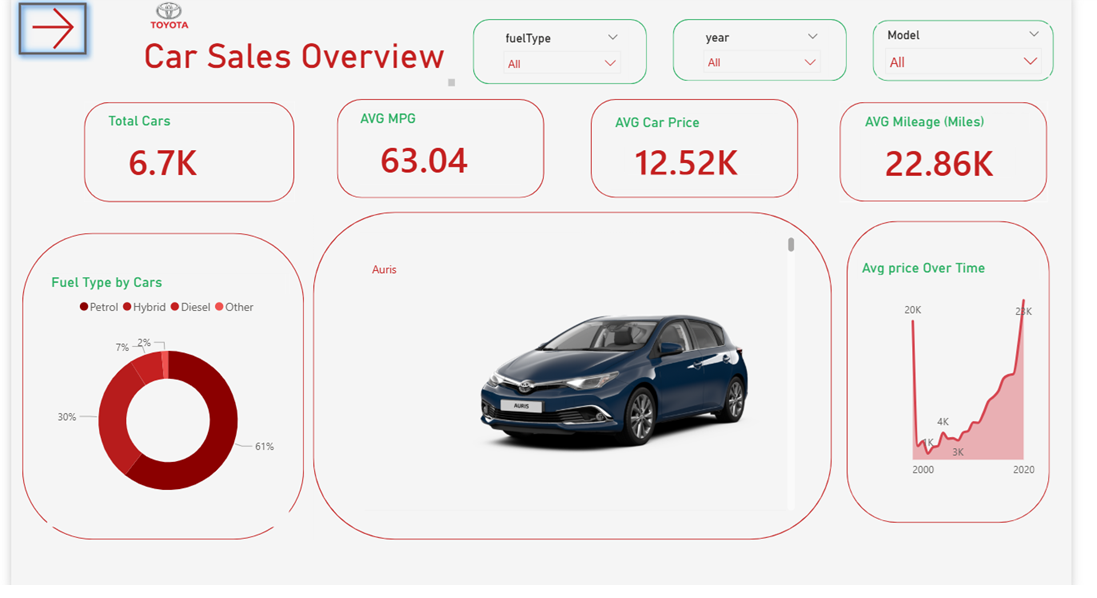

The page's visual inventory and layout, read from the dashboard file:
{"tool":"powerbi","page":{"name":"overview","canvas":[1280,720],"ordinal":1},"visuals":[{"type":"shape","box":[1040,30.2,218.4,73.6],"z":0,"group":"g7"},{"type":"shape","box":[393.3,125.5,250.1,119.4],"z":0,"group":"g2"},{"type":"shape","box":[699.7,125.5,250.3,119.1],"z":0,"group":"g3"},{"type":"group","id":"g1","title":"Group 1","box":[88.1,129.1,254.6,120.6],"z":0},{"type":"shape","box":[88.1,129.1,253.6,120.6],"z":0,"group":"g1"},{"type":"shape","box":[1000.1,129.1,250.3,120.3],"z":0,"group":"g4"},{"type":"shape","box":[1008.6,272.7,244.9,364.7],"z":0,"group":"g6"},{"type":"shape","box":[13.3,287.1,340.2,370.4],"z":0,"group":"g5"},{"type":"slicer","fields":{"Values":["Table.Model"]},"box":[1044.6,34.8,209.1,63.9],"z":1000,"group":"g7"},{"type":"group","id":"g2","title":"Group 2","box":[393.3,125.5,249.7,119.4],"z":1000},{"type":"cardVisual","title":"AVG MPG","fields":{"Data":["Avg(toyota.mpg)"]},"box":[416.8,138.6,203,94.9],"z":1000,"group":"g2"},{"type":"cardVisual","title":"Total Cars","fields":{"Data":["CountNonNull(toyota.model)"]},"box":[111.9,141.5,206,95.8],"z":1000,"group":"g1"},{"type":"cardVisual","title":"AVG Mileage (Miles)","fields":{"Data":["toyota.AVG mileage"]},"box":[1025.4,142.1,203,95.8],"z":1000,"group":"g4"},{"type":"cardVisual","title":"AVG  Car Price","fields":{"Data":["Avg(toyota.price)"]},"box":[723.9,144,201.3,91.1],"z":1000,"group":"g3"},{"type":"lineChart","title":"Avg  price Over Time","fields":{"Category":["toyota.year"],"Y":["Avg(toyota.price)"]},"box":[1022.3,318.6,218.4,272.8],"z":1000,"group":"g6"},{"type":"donutChart","title":"Fuel Type by Cars","fields":{"Category":["toyota.fuelType"],"Y":["CountNonNull(toyota.fuelType)"]},"box":[43,336.1,292.2,305.2],"z":1000,"group":"g5"},{"type":"group","id":"g3","title":"Group 3","box":[699.7,125.5,250.9,119.4],"z":2000},{"type":"group","id":"g4","title":"Group 4","box":[1000.1,129.1,250.9,120.6],"z":3000},{"type":"group","id":"g5","title":"Group 5","box":[13.3,287.1,340.2,370.4],"z":4000},{"type":"group","id":"g6","title":"Group 6","box":[1008.6,272.7,244.9,364.7],"z":5000},{"type":"group","id":"g7","title":"Group 8","box":[1040,30.2,218.4,73.6],"z":6000},{"type":"group","id":"g8","title":"Group 9","box":[798.7,29,209.9,74.8],"z":7000},{"type":"textbox","title":"Car Sales Overview","box":[143.6,48.3,396.9,66.4],"z":8000},{"type":"actionButton","box":[0,0,100.1,80.8],"z":9000},{"type":"shape","box":[557.4,29,209.9,78.4],"z":9000,"group":"g9"},{"type":"shape","box":[798.7,29,209.9,74.8],"z":9000,"group":"g8"},{"type":"slicer","fields":{"Values":["toyota.year"]},"box":[824.7,38,161.7,61],"z":9500,"group":"g8"},{"type":"slicer","fields":{"Values":["toyota.fuelType"]},"box":[583.4,38.5,161.7,64],"z":9500,"group":"g9"},{"type":"shape","box":[364.3,261.8,626.1,395.7],"z":10000},{"type":"tableEx","fields":{"Values":["Table.Model","Table.Image"]},"box":[421,287.1,529.6,340.2],"z":11000},{"type":"group","id":"g9","title":"Group 9","box":[557.4,29,209.9,78.4],"z":12000},{"type":"image","box":[143.6,7.2,95.3,33.8],"z":13000}]}

Visuals, with their boxes on the page's 1280x720 design canvas (x1, y1, x2, y2). These are canvas units, not pixel positions in the 1097x598 screenshot, which may show the page scaled, cropped or inside an application window:
shape: BBox(1040, 30, 1258, 104)
shape: BBox(393, 126, 643, 245)
shape: BBox(700, 126, 950, 245)
"Group 1" group: BBox(88, 129, 343, 250)
shape: BBox(88, 129, 342, 250)
shape: BBox(1000, 129, 1250, 249)
shape: BBox(1009, 273, 1254, 637)
shape: BBox(13, 287, 354, 658)
slicer - Table.Model: BBox(1045, 35, 1254, 99)
"Group 2" group: BBox(393, 126, 643, 245)
"AVG MPG" cardVisual: BBox(417, 139, 620, 234)
"Total Cars" cardVisual: BBox(112, 142, 318, 237)
"AVG Mileage (Miles)" cardVisual: BBox(1025, 142, 1228, 238)
"AVG  Car Price" cardVisual: BBox(724, 144, 925, 235)
"Avg  price Over Time" lineChart: BBox(1022, 319, 1241, 591)
"Fuel Type by Cars" donutChart: BBox(43, 336, 335, 641)
"Group 3" group: BBox(700, 126, 951, 245)
"Group 4" group: BBox(1000, 129, 1251, 250)
"Group 5" group: BBox(13, 287, 354, 658)
"Group 6" group: BBox(1009, 273, 1254, 637)
"Group 8" group: BBox(1040, 30, 1258, 104)
"Group 9" group: BBox(799, 29, 1009, 104)
"Car Sales Overview" textbox: BBox(144, 48, 540, 115)
actionButton: BBox(0, 0, 100, 81)
shape: BBox(557, 29, 767, 107)
shape: BBox(799, 29, 1009, 104)
slicer - toyota.year: BBox(825, 38, 986, 99)
slicer - toyota.fuelType: BBox(583, 38, 745, 102)
shape: BBox(364, 262, 990, 658)
tableEx - Table.Model x Table.Image: BBox(421, 287, 951, 627)
"Group 9" group: BBox(557, 29, 767, 107)
image: BBox(144, 7, 239, 41)
